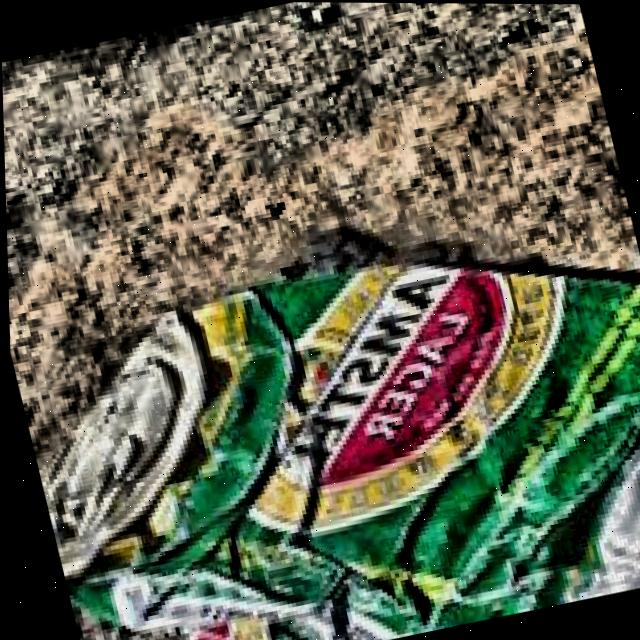metal: (36, 256, 640, 640)
